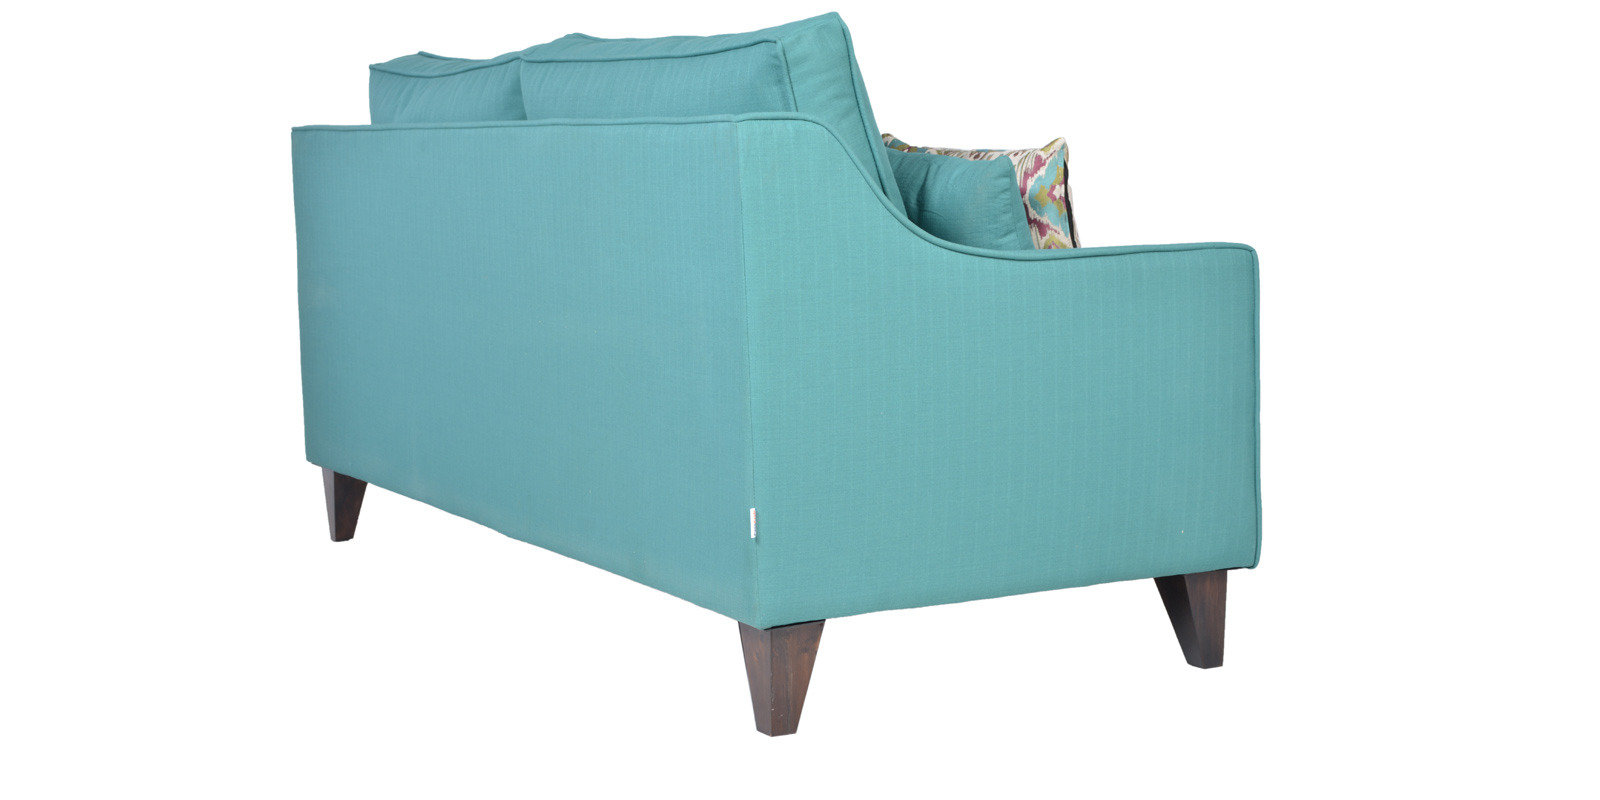Ithaca Impulse Three Seater Sofa with Throw Cushions in Jade Colour by Urban Liv: (285, 10, 1276, 756)
